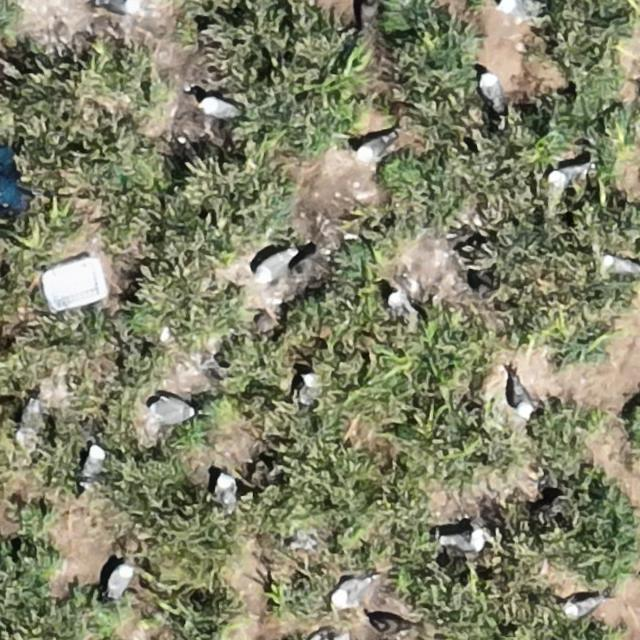umineko: (146, 393, 196, 424), (333, 573, 372, 609), (441, 530, 486, 554), (214, 472, 238, 514), (108, 565, 133, 597), (480, 73, 502, 109), (358, 135, 389, 160), (259, 252, 288, 278), (201, 96, 235, 118), (84, 444, 104, 478), (565, 596, 600, 615), (512, 384, 532, 417), (552, 165, 586, 184), (497, 0, 535, 16), (605, 257, 638, 275), (298, 370, 316, 400), (99, 0, 138, 13)
